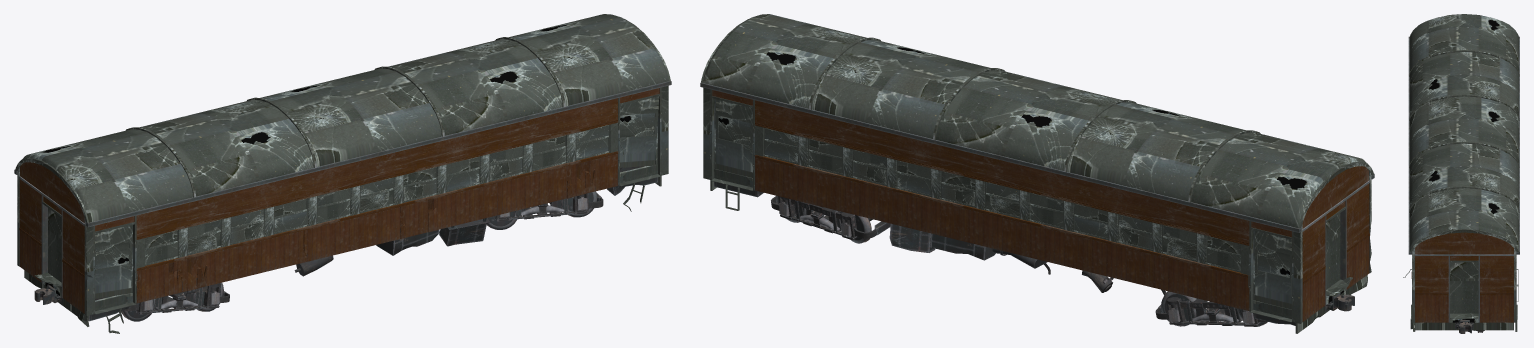
File: TrainBody2.fbx
3 renders of one model, left to right at view 1: azimuth 30°, elevation 25°; view 2: azimuth 150°, elevation 25°; view 3: azimuth 270°, elevation 25°, orthographic. The views are drawn at different scales.
Visible parts, largest first — view 1: 0002_SM_d_114_BrokenLocomotive_03a, 0001_SM_d_114_BrokenLocomotive_03a, 0000_SM_d_114_BrokenLocomotive_03a, 0003_SM_d_114_BrokenLocomotive_03a, 0006_SM_d_114_BrokenLocomotive_03a, 0005_SM_d_114_BrokenLocomotive_03a; view 2: 0002_SM_d_114_BrokenLocomotive_03a, 0001_SM_d_114_BrokenLocomotive_03a, 0000_SM_d_114_BrokenLocomotive_03a, 0003_SM_d_114_BrokenLocomotive_03a, 0005_SM_d_114_BrokenLocomotive_03a, 0006_SM_d_114_BrokenLocomotive_03a; view 3: 0002_SM_d_114_BrokenLocomotive_03a, 0001_SM_d_114_BrokenLocomotive_03a, 0000_SM_d_114_BrokenLocomotive_03a, 0004_SM_d_114_BrokenLocomotive_03a.
Boxes of the visible parts, left/top/right/bottom form: 0002_SM_d_114_BrokenLocomotive_03a: left=22, top=14, right=668, bottom=222; 0001_SM_d_114_BrokenLocomotive_03a: left=14, top=80, right=671, bottom=313; 0000_SM_d_114_BrokenLocomotive_03a: left=15, top=19, right=670, bottom=333; 0003_SM_d_114_BrokenLocomotive_03a: left=95, top=113, right=654, bottom=268; 0006_SM_d_114_BrokenLocomotive_03a: left=88, top=166, right=657, bottom=321; 0005_SM_d_114_BrokenLocomotive_03a: left=60, top=167, right=622, bottom=314; 0002_SM_d_114_BrokenLocomotive_03a: left=702, top=14, right=1366, bottom=227; 0001_SM_d_114_BrokenLocomotive_03a: left=700, top=82, right=1374, bottom=321; 0000_SM_d_114_BrokenLocomotive_03a: left=701, top=19, right=1373, bottom=333; 0003_SM_d_114_BrokenLocomotive_03a: left=718, top=115, right=1289, bottom=277; 0005_SM_d_114_BrokenLocomotive_03a: left=771, top=196, right=1267, bottom=326; 0006_SM_d_114_BrokenLocomotive_03a: left=714, top=181, right=1295, bottom=326; 0002_SM_d_114_BrokenLocomotive_03a: left=1409, top=14, right=1518, bottom=250; 0001_SM_d_114_BrokenLocomotive_03a: left=1408, top=36, right=1519, bottom=322; 0000_SM_d_114_BrokenLocomotive_03a: left=1403, top=50, right=1519, bottom=331; 0004_SM_d_114_BrokenLocomotive_03a: left=1455, top=320, right=1473, bottom=333.
Size of the model in its own units: 18.4 by 5.02 by 4.02.
